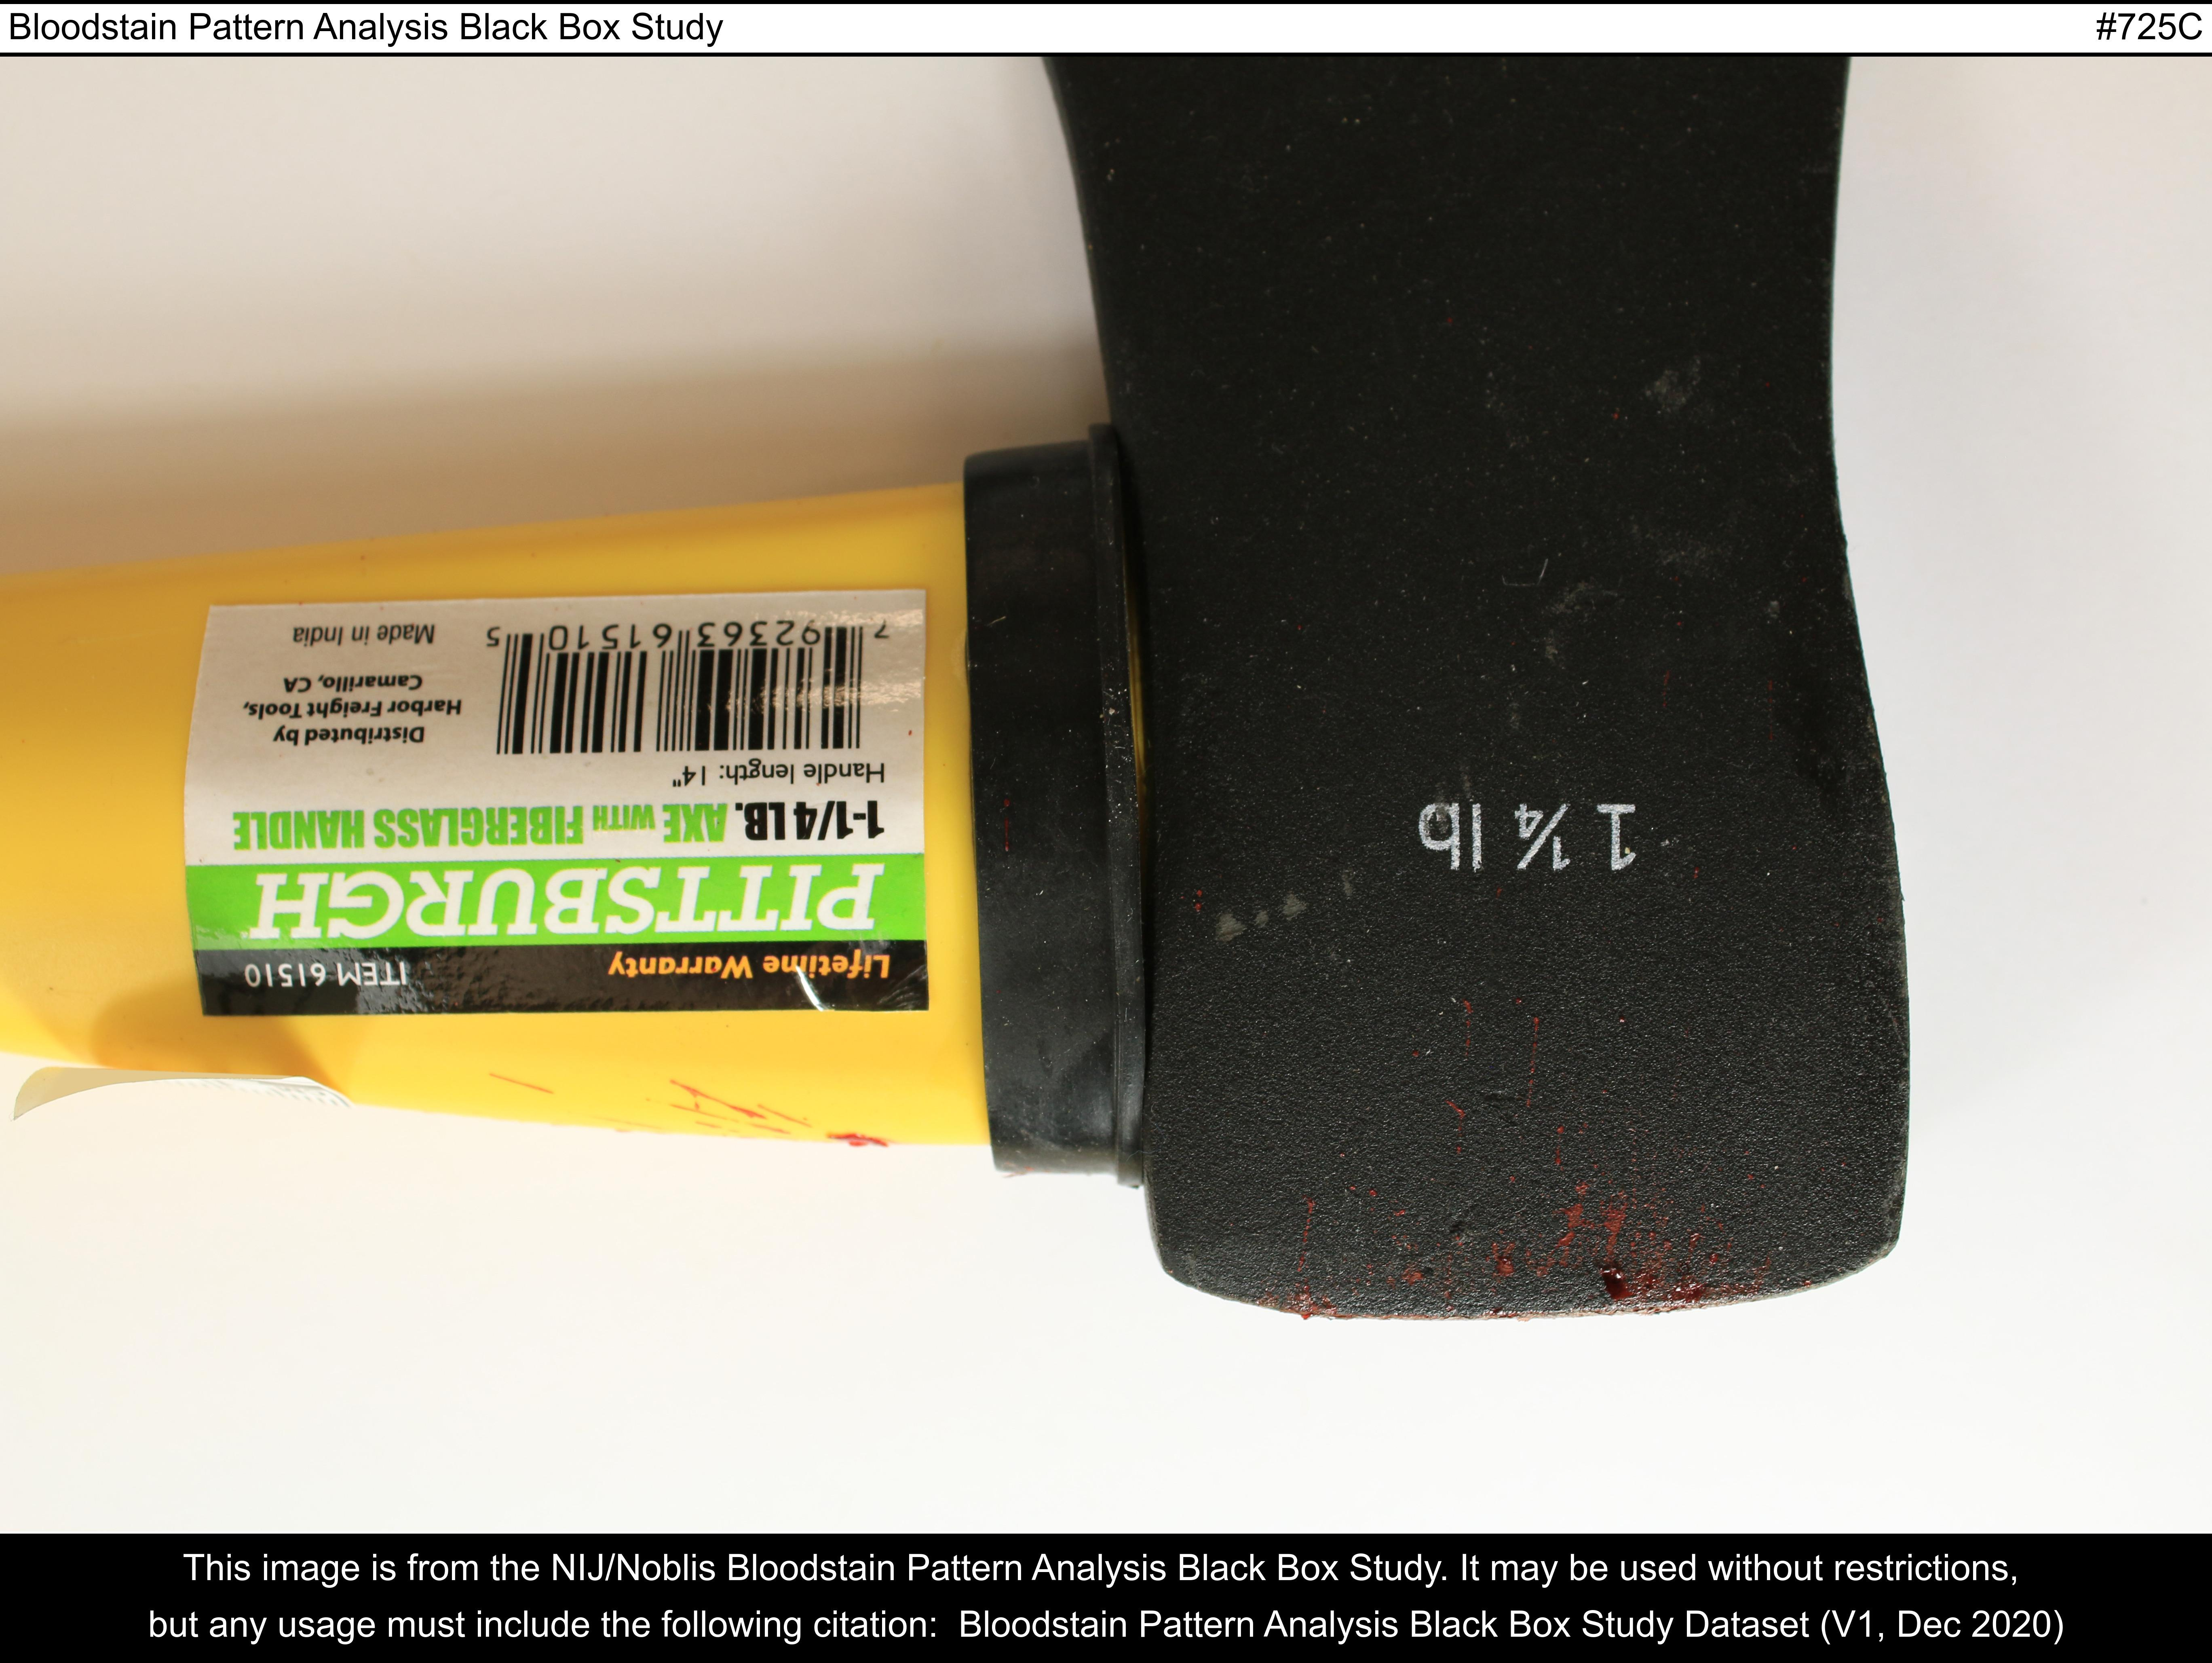Impact: (1199, 936, 1790, 1314), (475, 1018, 920, 1167)
